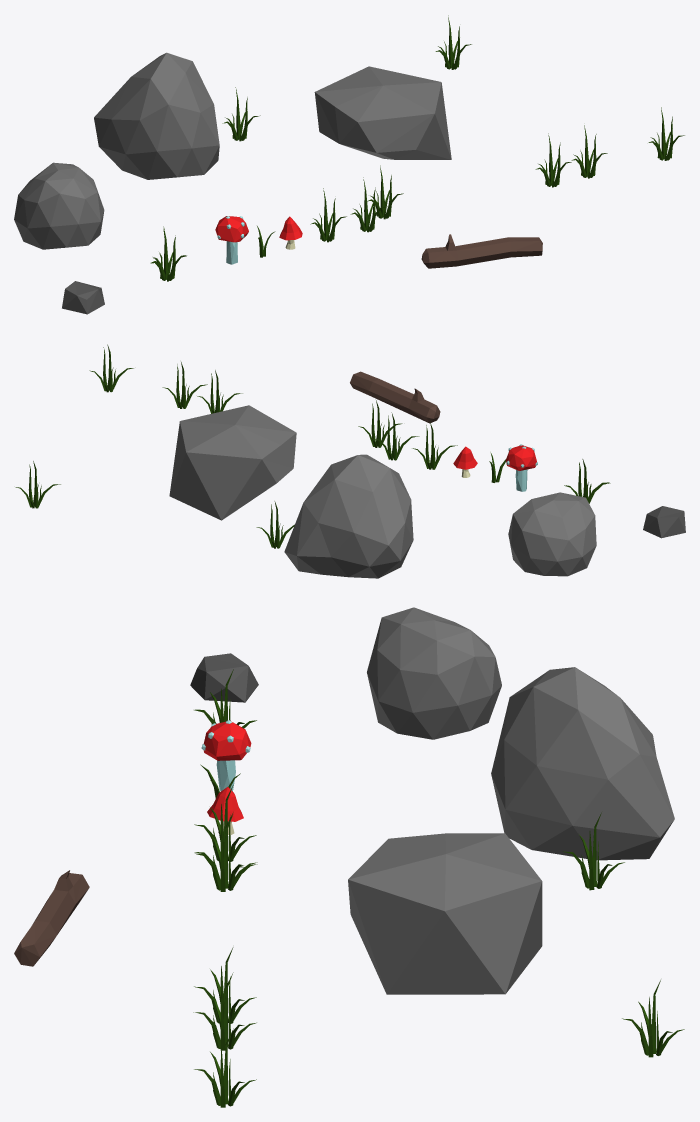
File: mushroom.obj
3 views of the same model, one above another, from view 1: azimuth 30°, elevation 25°; view 2: azimuth 150°, elevation 25°; view 3: azimuth 270°, elevation 25° (orthographic). The views are drawn at different scales.
Parts seen in each view (by area): view 1: NaturePack_Bush1, NaturePack_Rock1, NaturePack_Bush2, NaturePack_Branch, NaturePack_Rock3, top, NaturePack_Grass003, NaturePack_Grass011, NaturePack_Grass006, NaturePack_Grass008, NaturePack_Grass1, NaturePack_Grass012 (+2 smaller); view 2: NaturePack_Bush1, NaturePack_Rock1, NaturePack_Bush2, NaturePack_Branch, NaturePack_Rock3, top, NaturePack_Grass1, NaturePack_Grass006, NaturePack_Grass011, NaturePack_Grass012, NaturePack_Grass010, NaturePack_Grass003 (+2 smaller); view 3: NaturePack_Rock1, NaturePack_Bush1, NaturePack_Bush2, NaturePack_Branch, NaturePack_Rock3, top, NaturePack_Grass003, NaturePack_Grass011, NaturePack_Grass005, NaturePack_Grass012, NaturePack_Grass010, NaturePack_Grass008 (+1 smaller).
Boxes of the visible parts, x1,y1,x2,y2 form: NaturePack_Bush1: (94,52,219,179); NaturePack_Rock1: (314,66,451,159); NaturePack_Bush2: (14,162,104,249); NaturePack_Branch: (421,234,542,268); NaturePack_Rock3: (62,281,104,314); top: (215,216,248,242); NaturePack_Grass003: (222,87,260,141); NaturePack_Grass011: (648,107,684,160); NaturePack_Grass006: (350,177,387,232); NaturePack_Grass008: (535,133,571,187); NaturePack_Grass1: (310,188,346,242); NaturePack_Grass012: (435,15,471,69); NaturePack_Bush1: (284,454,413,578); NaturePack_Rock1: (169,405,296,520); NaturePack_Bush2: (508,492,596,576); NaturePack_Branch: (350,371,440,423); NaturePack_Rock3: (643,506,685,538); top: (505,445,536,470); NaturePack_Grass1: (412,422,457,469); NaturePack_Grass006: (374,412,419,460); NaturePack_Grass011: (89,344,133,392); NaturePack_Grass012: (15,461,60,508); NaturePack_Grass010: (162,362,207,408); NaturePack_Grass003: (256,501,294,548); NaturePack_Rock1: (348,833,542,994); NaturePack_Bush1: (491,667,674,860); NaturePack_Bush2: (367,607,501,739); NaturePack_Branch: (14,870,89,966); NaturePack_Rock3: (190,653,258,702); top: (203,721,251,760); NaturePack_Grass003: (563,812,624,890); NaturePack_Grass011: (194,1028,256,1107); NaturePack_Grass005: (194,812,257,890); NaturePack_Grass012: (622,980,684,1057); NaturePack_Grass010: (193,972,256,1050); NaturePack_Grass008: (194,947,256,1023).
Size of the model in its own units: 15.15 by 2.76 by 9.68.
